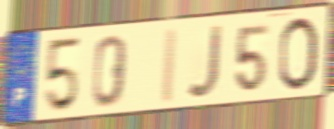0: (91, 32, 129, 110)
5: (41, 35, 84, 115), (234, 21, 272, 93)
I: (158, 26, 180, 106)
J: (185, 22, 225, 101)
O: (276, 14, 319, 94)
